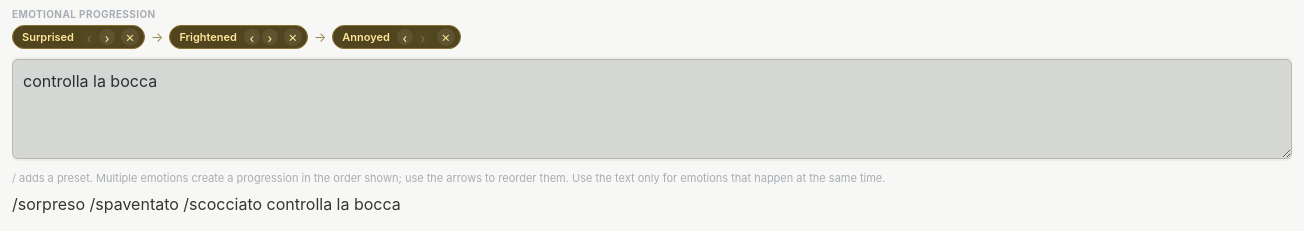
Test case: Menu slash › mostra più emozioni come progressione e permette di riordinarle
Expected: the text "Emotional progression" is shown, [12,8,156,20]
Expected: the text "→" is shown 2 times, [151,30,163,44]; [314,30,326,44]
Click the button named "Move Frightened earlier": x=252, y=37 [244,29,260,45]
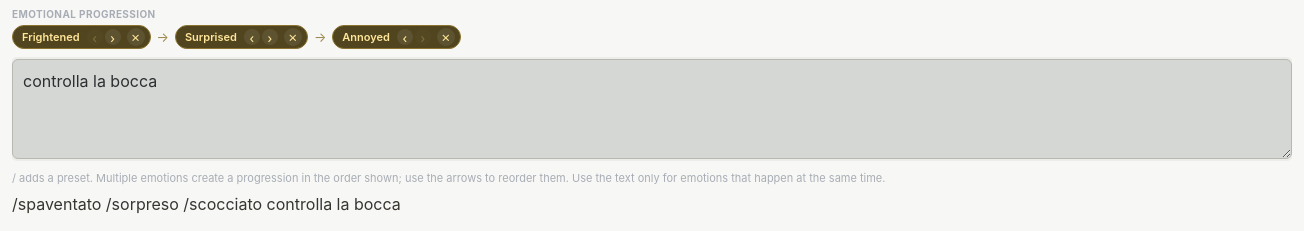
Result: the message reads "/spaventato /sorpreso /scocciato controlla la bocca" at [12,194,401,214]
